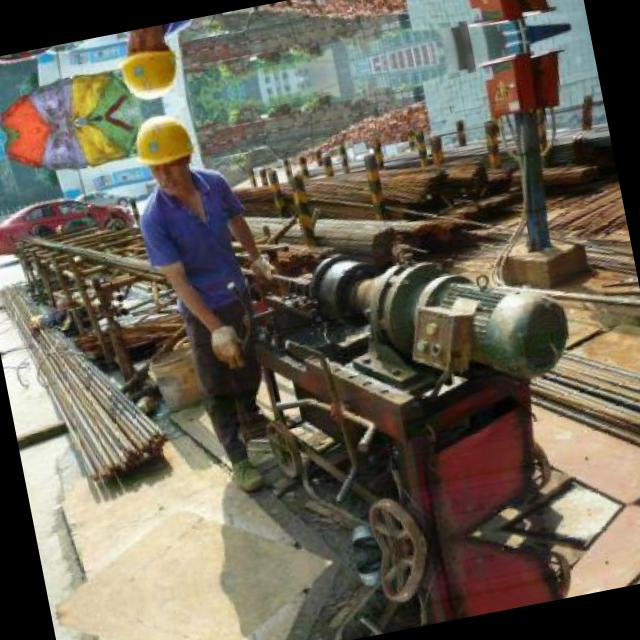helmet: (123, 100, 207, 202), (108, 22, 192, 116)
